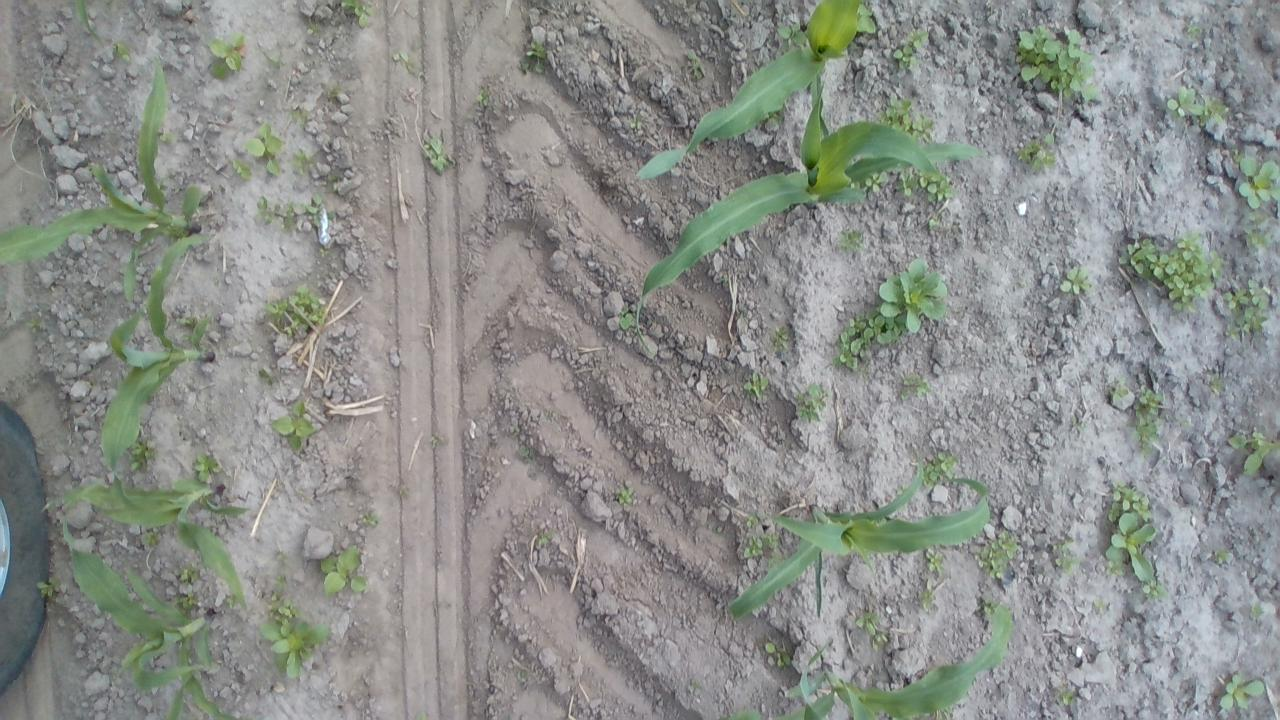Maize: (636, 80, 989, 353), (0, 54, 203, 302), (730, 446, 993, 622), (634, 0, 860, 182), (62, 503, 240, 720), (100, 231, 214, 509), (766, 600, 1012, 720), (42, 473, 250, 609), (73, 0, 183, 47)
Weeds: (1118, 229, 1226, 314), (1014, 24, 1096, 101), (876, 258, 950, 334), (1105, 481, 1157, 582), (830, 310, 901, 369), (259, 621, 332, 678), (264, 284, 324, 337), (1222, 278, 1270, 341), (1127, 384, 1164, 460), (1228, 428, 1280, 478), (875, 98, 933, 142), (970, 530, 1020, 578), (1237, 154, 1280, 208), (321, 544, 366, 595), (243, 120, 283, 176), (270, 400, 316, 448), (1015, 132, 1058, 172), (892, 28, 929, 74), (1218, 674, 1265, 710), (209, 33, 245, 79), (916, 166, 956, 202), (794, 382, 830, 422), (421, 134, 452, 175), (1166, 86, 1203, 120), (776, 22, 808, 54), (124, 437, 154, 471), (266, 596, 302, 624), (1058, 265, 1091, 295), (518, 40, 548, 73), (1199, 96, 1229, 128), (341, 0, 373, 29), (854, 0, 880, 35), (194, 451, 220, 483), (900, 374, 931, 400), (253, 197, 280, 225), (300, 194, 322, 227), (1243, 226, 1272, 250), (894, 167, 918, 196), (837, 228, 866, 252), (289, 148, 313, 176), (764, 642, 791, 666), (744, 373, 768, 400), (685, 49, 705, 79), (856, 611, 880, 635), (172, 590, 197, 613), (35, 576, 61, 598), (1108, 377, 1130, 402), (918, 579, 934, 613), (1055, 556, 1082, 576), (280, 200, 298, 230), (864, 170, 888, 192), (1142, 580, 1168, 600), (742, 536, 764, 557), (392, 51, 414, 72), (771, 326, 790, 350), (176, 565, 200, 584), (922, 706, 953, 720), (232, 158, 251, 180), (617, 305, 633, 331), (725, 709, 762, 720), (1053, 687, 1073, 707), (112, 41, 131, 62), (926, 550, 944, 572), (870, 632, 889, 652), (357, 511, 380, 527), (766, 550, 784, 570), (760, 530, 780, 548), (768, 106, 786, 126), (982, 598, 998, 620), (1186, 21, 1204, 40), (291, 108, 308, 128), (615, 486, 633, 504), (1210, 373, 1224, 395), (1246, 210, 1266, 224), (1213, 548, 1230, 564), (143, 531, 160, 547), (25, 314, 40, 332), (1052, 538, 1074, 550), (326, 173, 339, 193), (326, 84, 342, 100), (475, 88, 490, 105), (518, 445, 534, 460), (177, 316, 197, 328), (272, 574, 288, 589), (1071, 415, 1085, 432), (630, 113, 644, 130), (1248, 604, 1264, 618), (306, 22, 322, 36), (538, 532, 552, 547), (745, 514, 760, 528), (928, 216, 942, 230), (155, 178, 167, 194), (225, 594, 238, 608), (1232, 148, 1244, 162), (1092, 598, 1106, 610), (686, 682, 702, 692), (160, 132, 174, 142), (85, 165, 97, 176), (182, 334, 192, 344), (269, 58, 280, 67), (276, 551, 286, 560), (327, 210, 336, 219), (416, 712, 426, 720), (750, 66, 760, 74), (720, 274, 729, 282), (320, 249, 328, 258), (258, 368, 266, 376), (520, 672, 526, 678)
